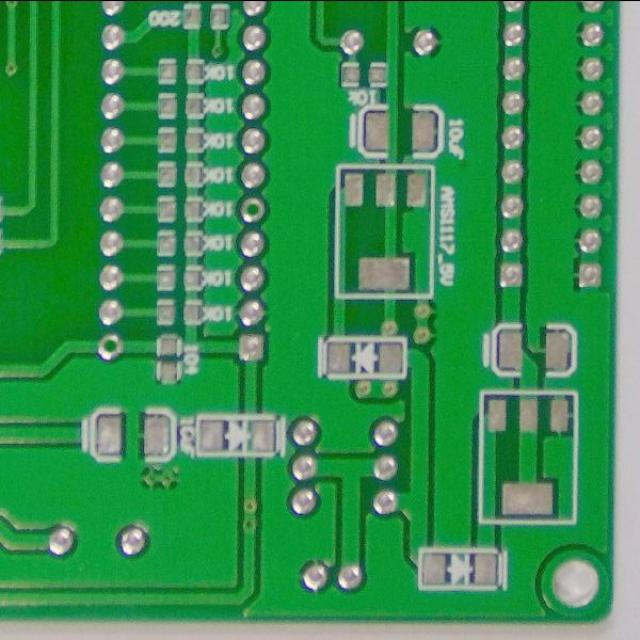missing_hole: (235, 194, 268, 223), (96, 333, 125, 359)
